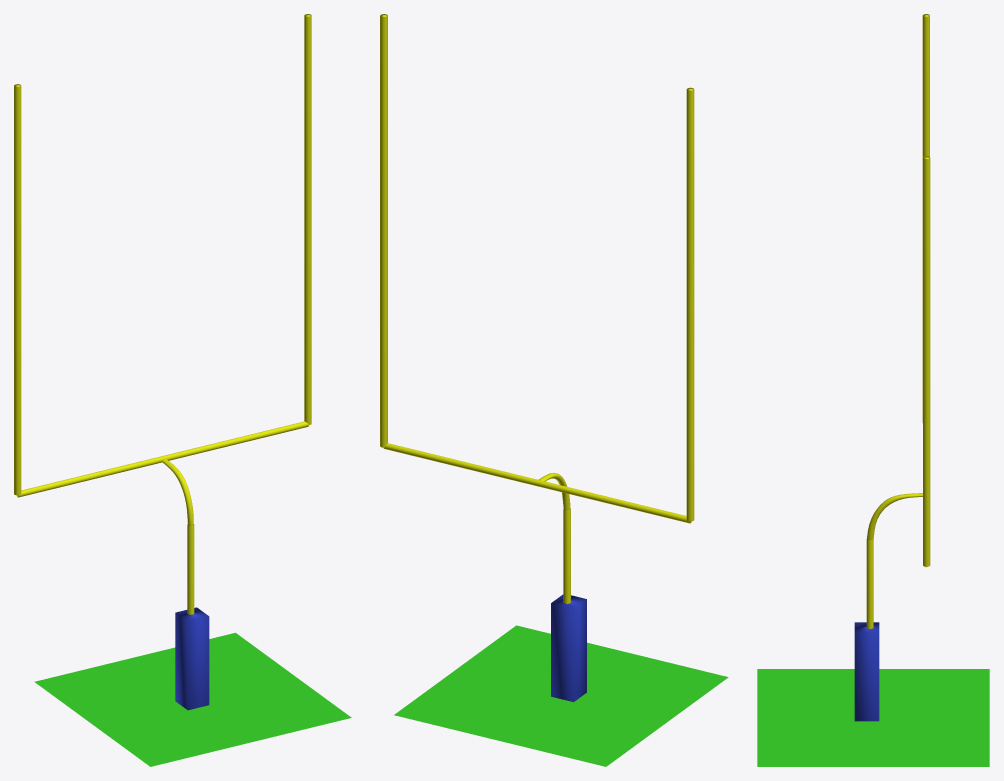
Rendered from Football Posts.fbx.
3 renders of one model, left to right at view 1: azimuth 30°, elevation 25°; view 2: azimuth 150°, elevation 25°; view 3: azimuth 270°, elevation 25°, orthographic. The views are drawn at different scales.
Parts seen in each view (by area): view 1: Plane.001, Cube, Cylinder.003, Cylinder.002, Cylinder.001, Cylinder; view 2: Plane.001, Cylinder.003, Cube, Cylinder.002, Cylinder.001, Cylinder; view 3: Plane.001, Cylinder.002, Cube, Cylinder.003, Cylinder, Plane.
Part boxes in pixels (bbox=[...]): Plane.001: bbox=[34, 632, 351, 766]; Cube: bbox=[175, 607, 209, 710]; Cylinder.003: bbox=[14, 84, 21, 495]; Cylinder.002: bbox=[304, 14, 311, 425]; Cylinder.001: bbox=[16, 421, 308, 497]; Cylinder: bbox=[187, 524, 194, 614]; Plane.001: bbox=[394, 625, 728, 766]; Cylinder.003: bbox=[686, 87, 694, 521]; Cube: bbox=[551, 594, 586, 702]; Cylinder.002: bbox=[380, 14, 387, 447]; Cylinder.001: bbox=[383, 443, 691, 523]; Cylinder: bbox=[563, 508, 570, 603]; Plane.001: bbox=[757, 669, 989, 766]; Cylinder.002: bbox=[923, 156, 930, 566]; Cube: bbox=[854, 622, 879, 721]; Cylinder.003: bbox=[922, 14, 929, 422]; Cylinder: bbox=[866, 539, 873, 628]; Plane: bbox=[867, 493, 922, 540].
Bounding box in the file's own units: 2389 × 4863 × 1621.
